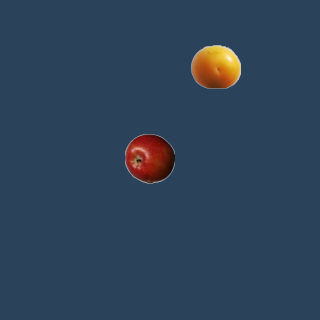Apple Braeburn: (124, 133, 174, 183)
Cherry Wax Yellow: (190, 41, 240, 91)
